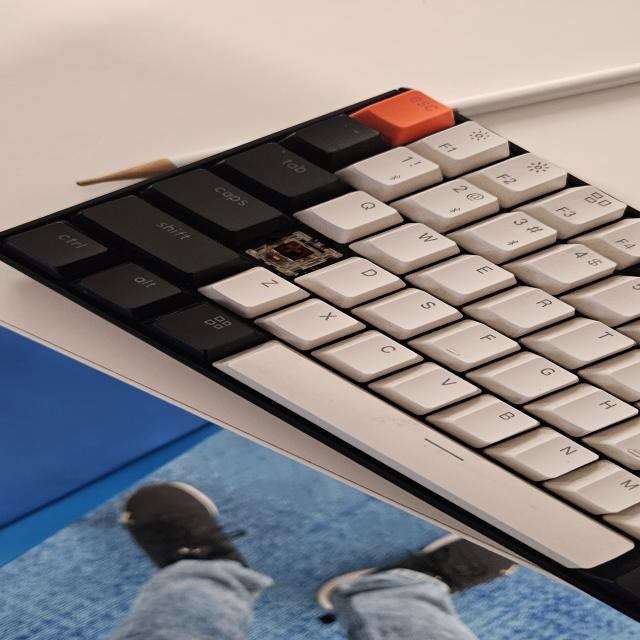C: (266, 238, 333, 262)
